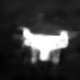plane: (17, 24, 76, 65)
